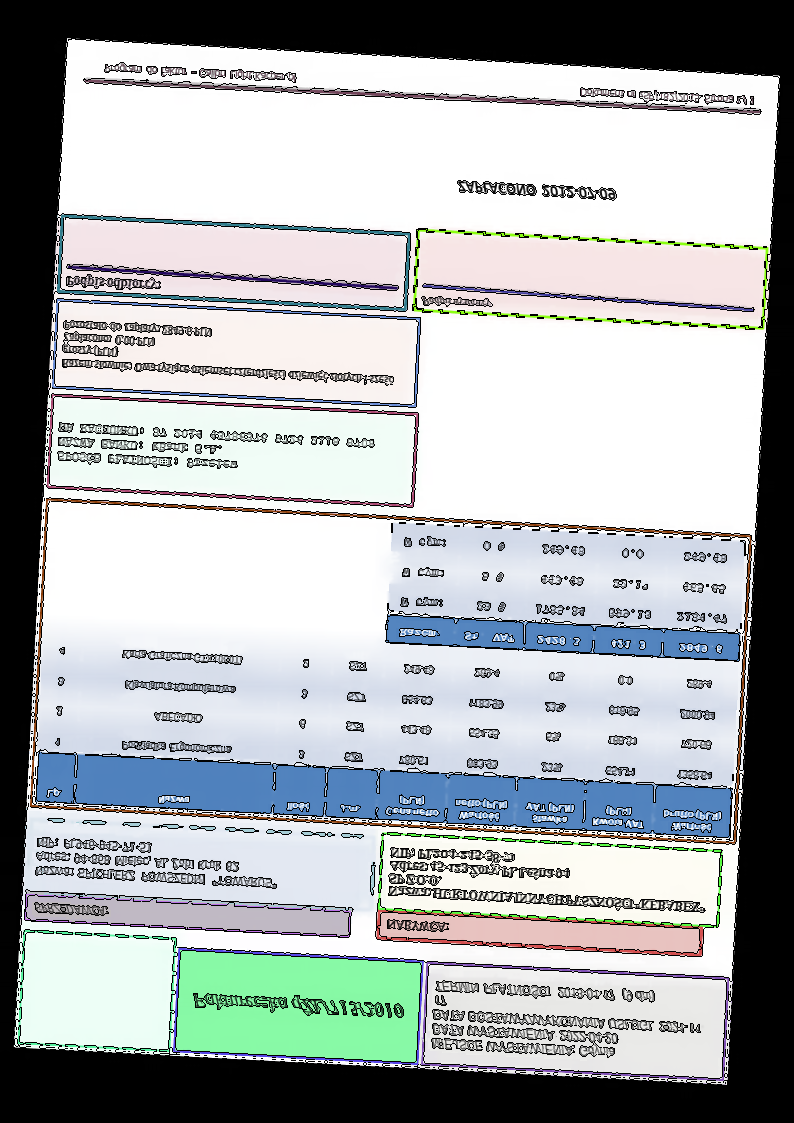Table: (34, 628, 738, 842), (385, 520, 747, 664)
TextBox: (429, 974, 708, 1067), (59, 316, 397, 390), (385, 844, 712, 916), (54, 418, 378, 481), (31, 832, 281, 895), (187, 988, 406, 1024), (101, 59, 298, 87), (578, 84, 758, 110), (455, 178, 619, 205), (62, 271, 162, 296), (418, 294, 495, 315), (31, 901, 109, 921), (383, 915, 449, 936)
